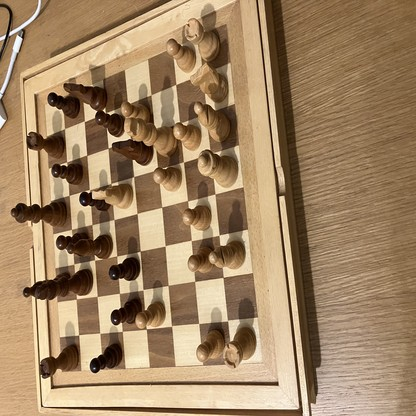bishop_black: (67, 235, 113, 258)
bishop_white: (194, 104, 231, 143)
king_black: (35, 270, 93, 304)
king_white: (125, 117, 176, 155)
knight_black: (63, 85, 107, 109), (112, 140, 154, 165)
knight_white: (190, 65, 227, 103), (91, 183, 134, 208)
pawn_black: (90, 342, 122, 373), (48, 92, 80, 117), (111, 300, 142, 325), (95, 112, 125, 136), (52, 163, 83, 185), (111, 258, 139, 280), (57, 232, 90, 250), (80, 191, 109, 211)
pawn_white: (165, 39, 196, 72), (197, 329, 226, 361), (173, 123, 202, 150), (137, 302, 166, 328), (183, 206, 212, 232), (153, 166, 182, 192), (188, 247, 214, 272), (121, 101, 148, 121)
queen_black: (11, 200, 66, 228)
rock_black: (39, 344, 79, 380), (26, 132, 64, 158)
rock_white: (184, 18, 220, 60), (223, 327, 257, 370)
